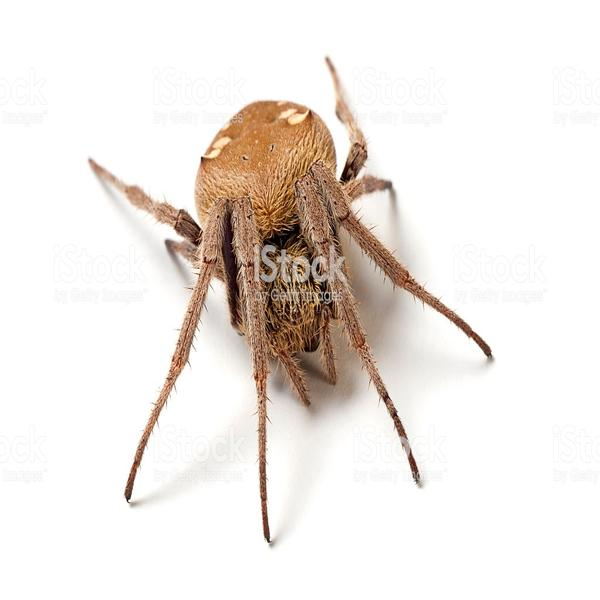Garden_Orb_Weaver_Spider: (89, 56, 492, 544)
